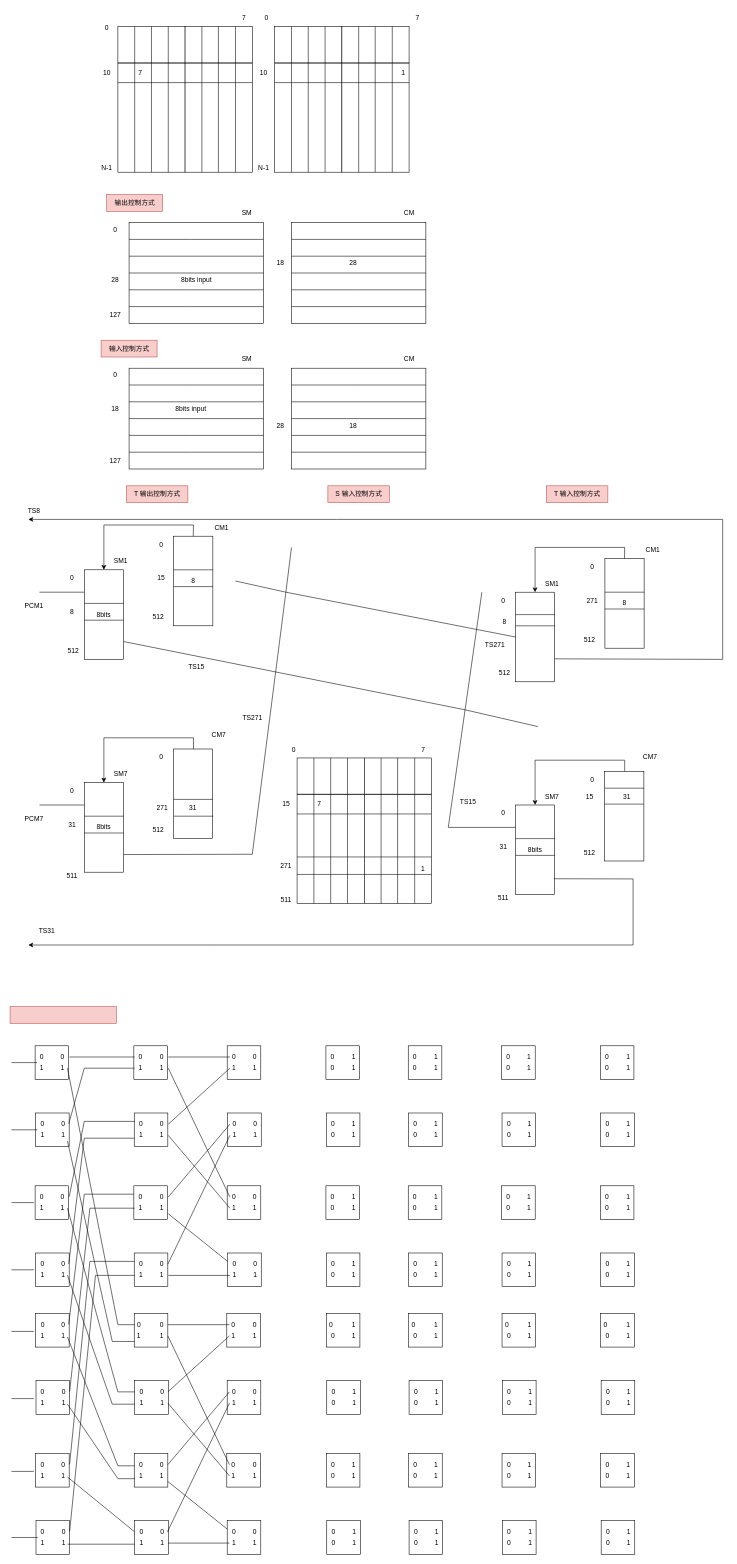
This 737x1564 diagram has some shape labels left out. Each missing label, with the box of its shape:
16×16可重排无阻塞Benes网络: (10, 1006, 116, 1023)
8bit: (515, 592, 555, 682)
